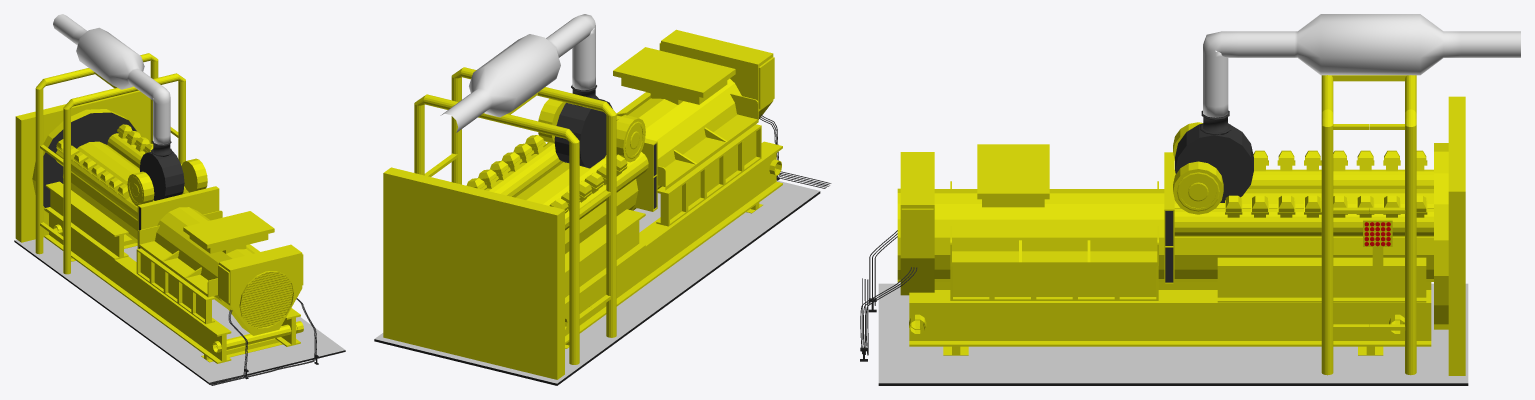
Rendered from power_electronics_unit.glb.
The picture shows the model from 3 angles, left to right: view 1: azimuth 30°, elevation 25°; view 2: azimuth 150°, elevation 25°; view 3: azimuth 270°, elevation 25°; orthographic projection. The views are drawn at different scales.
Parts seen in each view (by area): view 1: body, beams, floor, engine, fan, supports, ventilation, wires; view 2: fan, body, beams, engine, floor, supports, ventilation, wires; view 3: beams, body, engine, floor, ventilation, supports, fan, wires.
Part boxes in pixels (left/top/right/bottom): body: left=137, top=186, right=303, bottom=335; beams: left=44, top=181, right=303, bottom=363; floor: left=14, top=237, right=345, bottom=384; engine: left=55, top=124, right=207, bottom=242; fan: left=15, top=90, right=150, bottom=242; supports: left=35, top=53, right=185, bottom=274; ventilation: left=53, top=14, right=172, bottom=156; wires: left=208, top=298, right=318, bottom=385; fan: left=383, top=167, right=564, bottom=379; body: left=613, top=29, right=774, bottom=211; beams: left=565, top=124, right=782, bottom=348; engine: left=466, top=98, right=648, bottom=253; floor: left=374, top=180, right=820, bottom=385; supports: left=414, top=67, right=616, bottom=364; ventilation: left=440, top=14, right=598, bottom=132; wires: left=758, top=114, right=831, bottom=188; beams: left=909, top=219, right=1431, bottom=355; body: left=897, top=144, right=1174, bottom=295; engine: left=1173, top=122, right=1433, bottom=281; floor: left=878, top=283, right=1468, bottom=385; ventilation: left=1200, top=14, right=1520, bottom=134; supports: left=1321, top=75, right=1416, bottom=375; fan: left=1434, top=96, right=1465, bottom=375; wires: left=860, top=230, right=917, bottom=361.
Size of the model in its own units: 5.21 by 7.49 by 14.23.
